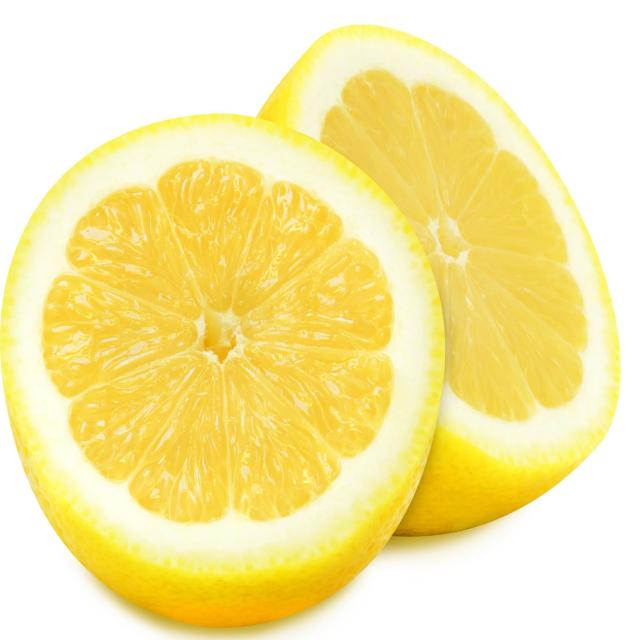lemon: (0, 104, 460, 636)
